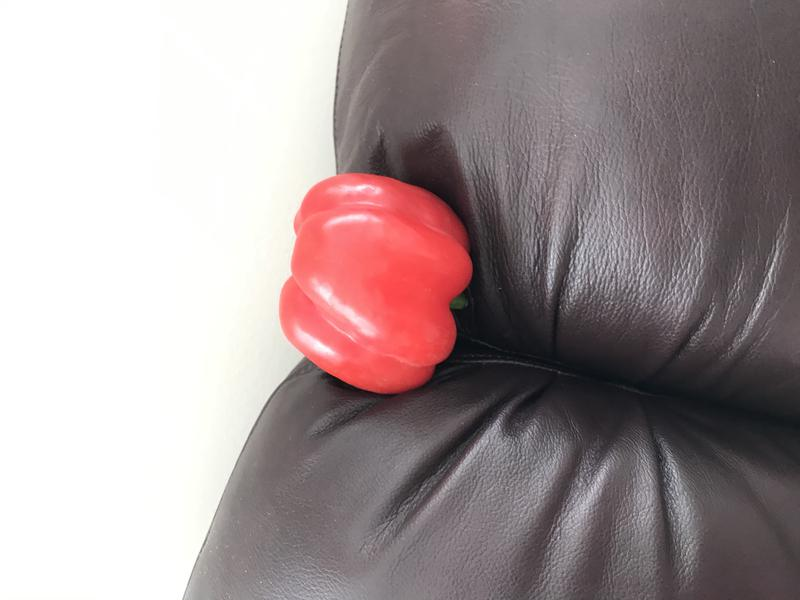red_pepper: (270, 166, 486, 417)
